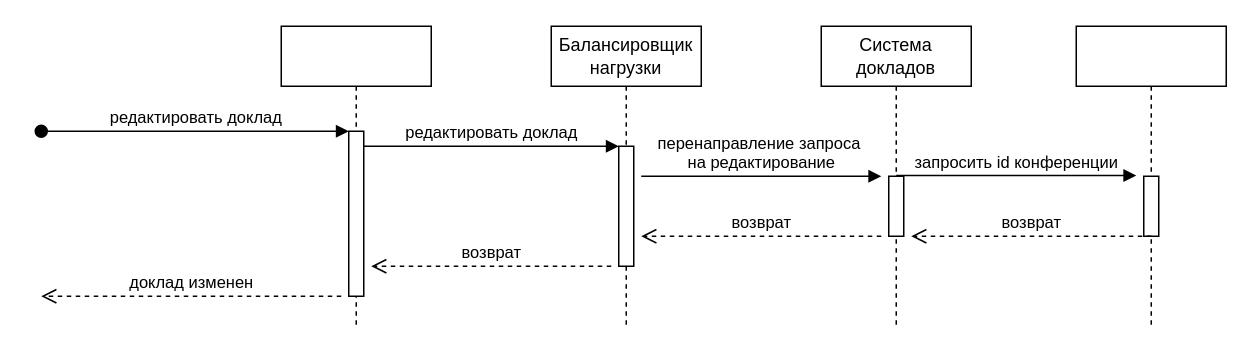
This 1253x353 diagram has some shape labels left out. The box of each missing label's shape, as (x1, y1, x2, y2) in pixels:
Портал докладов: (280, 25, 431, 326)
Система конференций: (1075, 25, 1226, 326)
